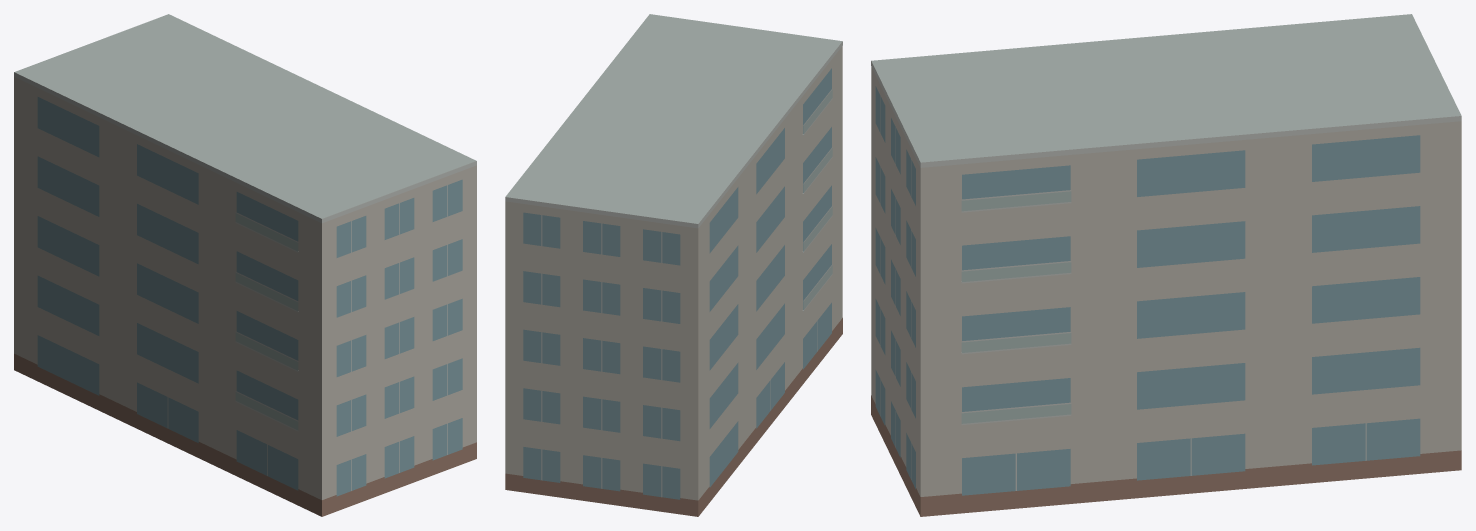
File: survey-upis-32697661.glb
3 views of the same model, side by side, from view 1: azimuth 30°, elevation 25°; view 2: azimuth 150°, elevation 25°; view 3: azimuth 270°, elevation 25° (orthographic). The views are drawn at different scales.
Visible parts, largest first — view 1: survey-upis-32697661.tmp; view 2: survey-upis-32697661.tmp; view 3: survey-upis-32697661.tmp.
Boxes of the visible parts, x1,y1,x2,y2 form: survey-upis-32697661.tmp: (14, 14, 476, 516); survey-upis-32697661.tmp: (505, 14, 842, 516); survey-upis-32697661.tmp: (871, 14, 1461, 516).
Bounding box in the file's own units: 14.72 × 16.35 × 24.71.
